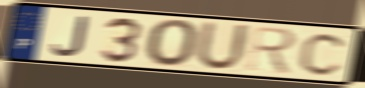3: (97, 15, 143, 64)
C: (297, 31, 350, 77)
J: (50, 15, 90, 58)
O: (145, 18, 202, 69)
R: (245, 24, 299, 77)
U: (193, 19, 252, 72)
